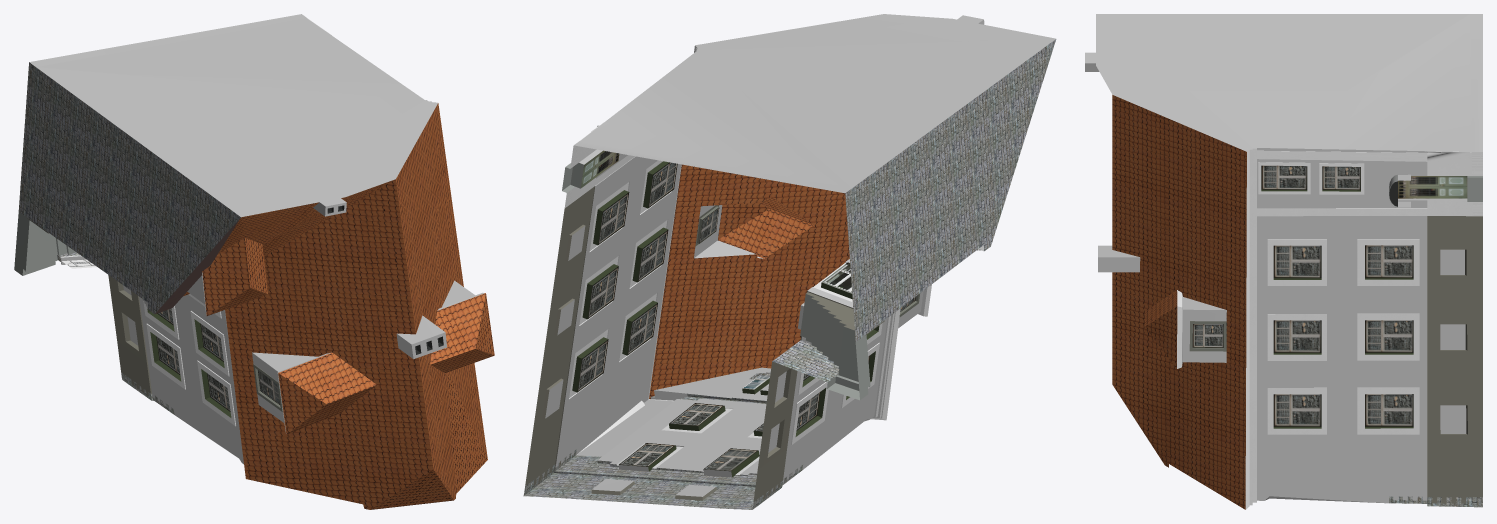
Rendered from Myyrivahe_41.obj.
The picture shows the model from 3 angles, left to right: view 1: azimuth 30°, elevation 25°; view 2: azimuth 150°, elevation 25°; view 3: azimuth 270°, elevation 25°; orthographic projection. The views are drawn at different scales.
Parts seen in each view (by area): view 1: Myyrivahe_41; view 2: Myyrivahe_41; view 3: Myyrivahe_41.
Boxes of the visible parts, <box> form: Myyrivahe_41: <box>14,14,494,509</box>; Myyrivahe_41: <box>523,14,1056,509</box>; Myyrivahe_41: <box>1085,14,1482,509</box>.
Bounding box in the file's own units: 14.02 × 14.92 × 15.39.
